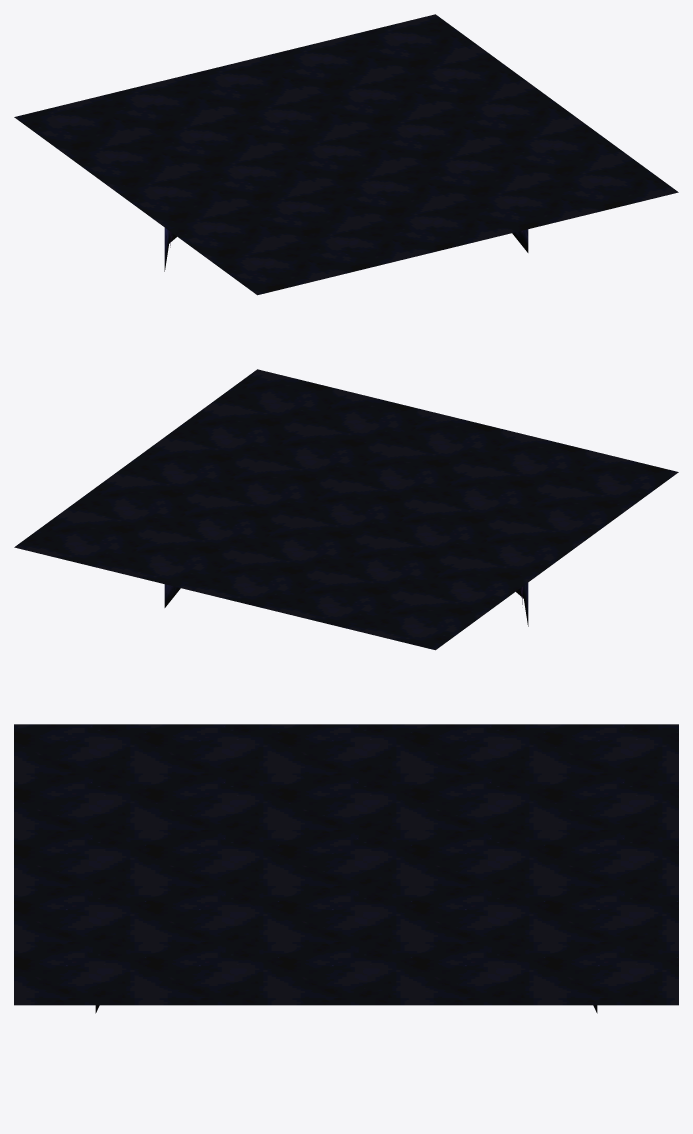
File: INST_EKH_SKYBOX.obj
The picture shows the model from 3 angles, top to bottom: view 1: azimuth 30°, elevation 25°; view 2: azimuth 150°, elevation 25°; view 3: azimuth 270°, elevation 25°; orthographic projection. The views are drawn at different scales.
Visible parts, largest first — view 1: Plane03; view 2: Plane03; view 3: Plane03.
Boxes of the visible parts, box(x1,y1,x2,y2) form: Plane03: box(14, 14, 678, 295); Plane03: box(14, 369, 678, 650); Plane03: box(14, 724, 678, 1005).
Bounding box in the file's own units: 1635 × 404 × 1635.
